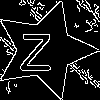Z: (20, 25, 52, 70)
